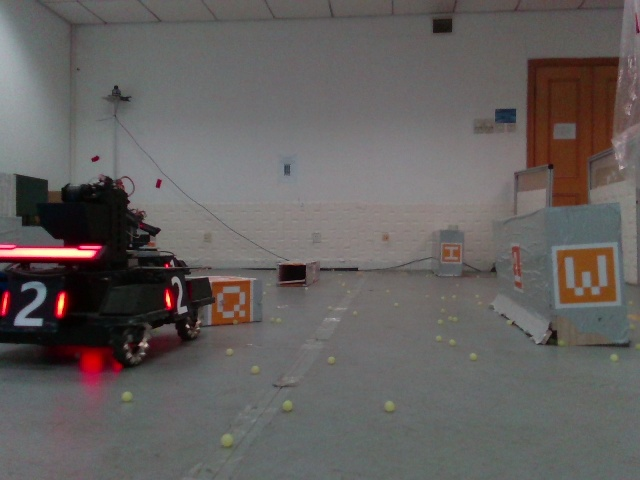Robot_Red: (1, 178, 216, 367)
armor_Red: (1, 281, 67, 327), (164, 275, 189, 314)
